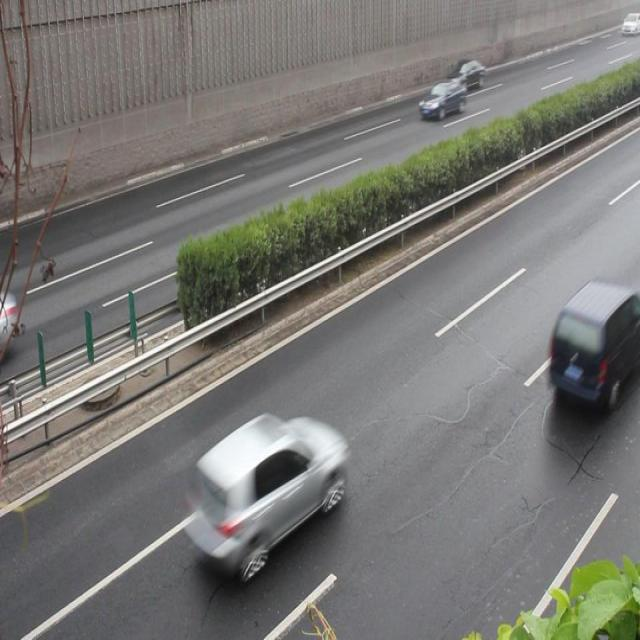car: (186, 410, 346, 573), (418, 81, 464, 120), (1, 290, 23, 355), (445, 58, 483, 94)
truck: (548, 276, 640, 403)
